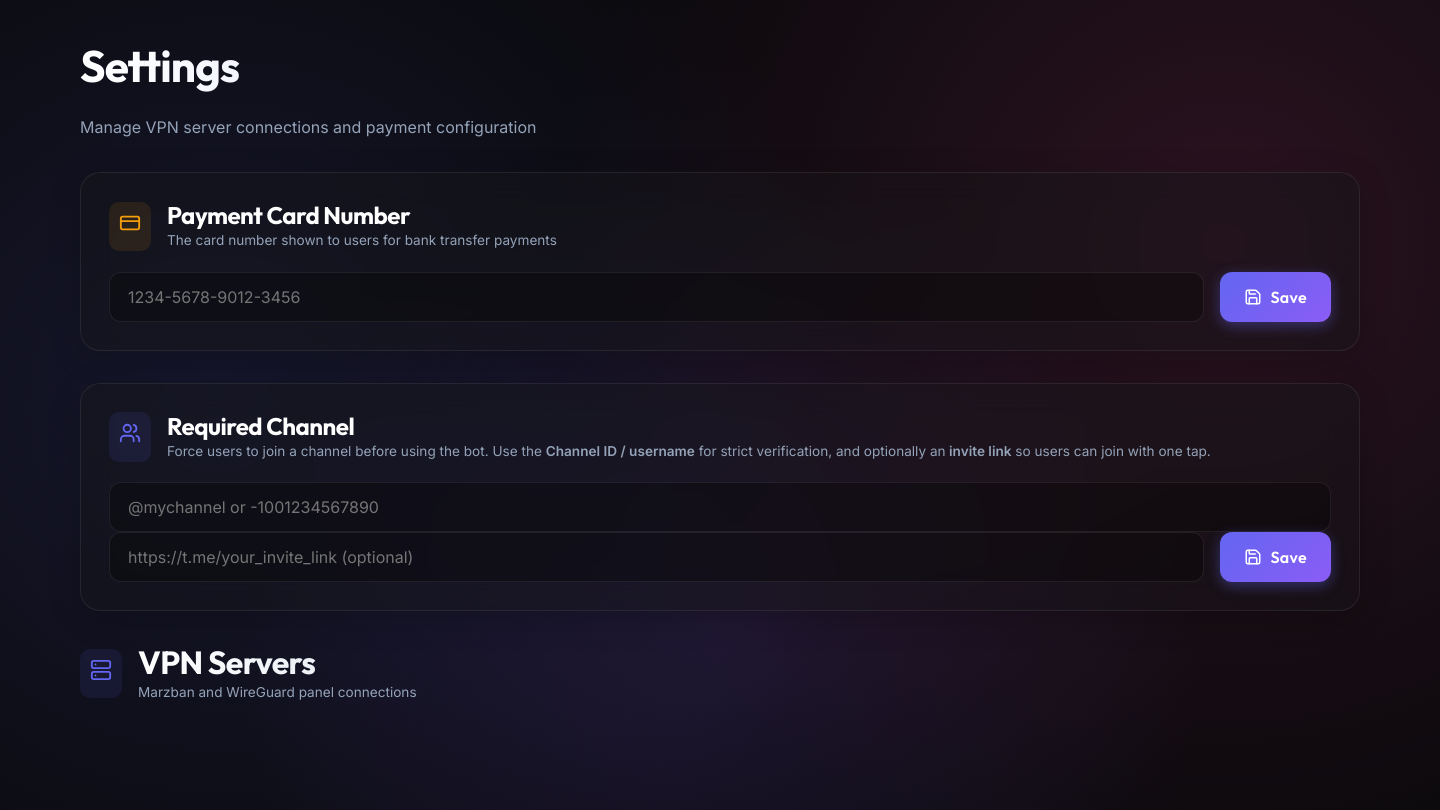
it: Settings › saves required channel when updated
The width and height of the screenshot is (1440, 810).
Type "@newchannel" into the field with placeholder "@mychannel or -1001234567890".
click(720, 508); type("@newchannel")  # box [109,482,1331,532]
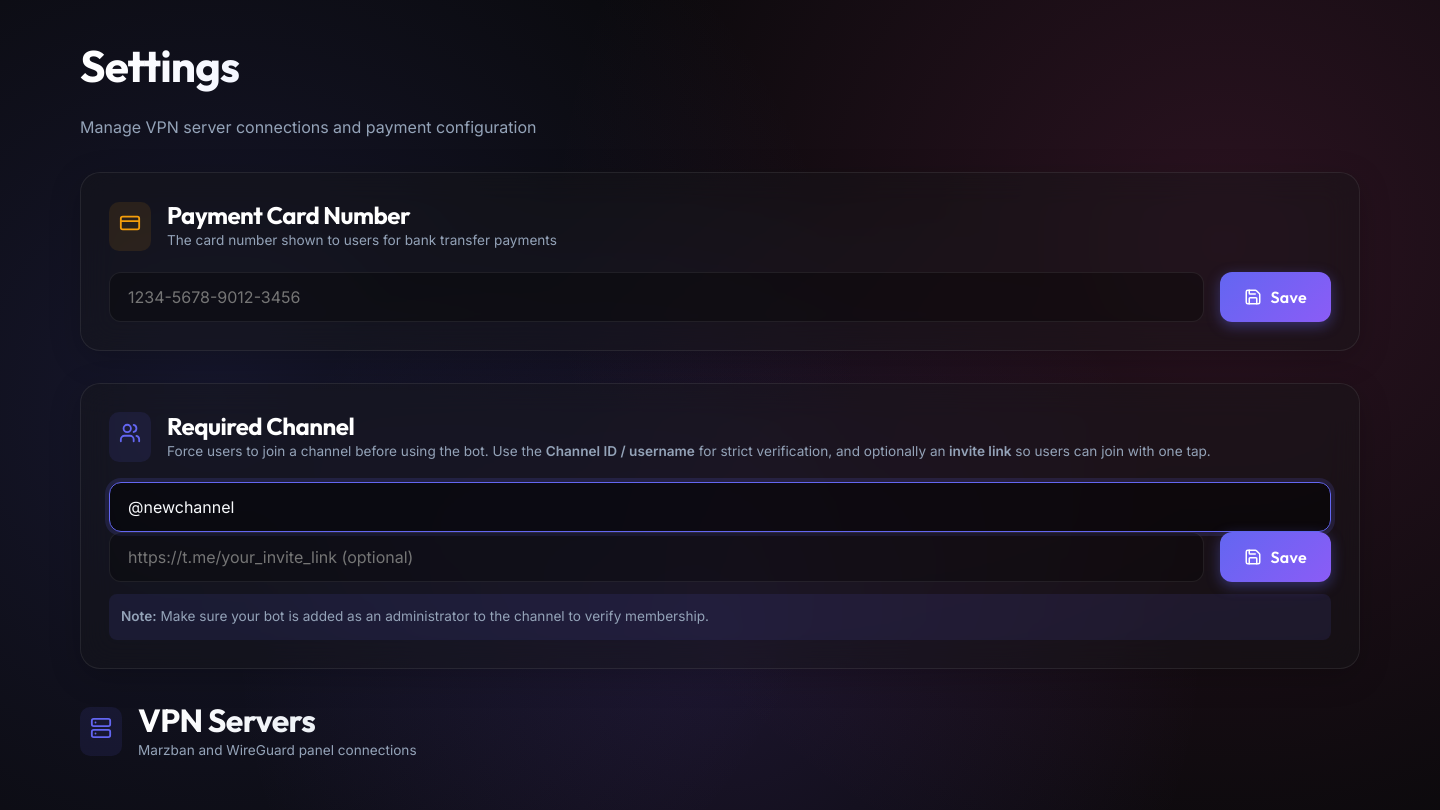
Click the button "Save" below "invite link".
click(1276, 558)  # box [1220,532,1331,582]
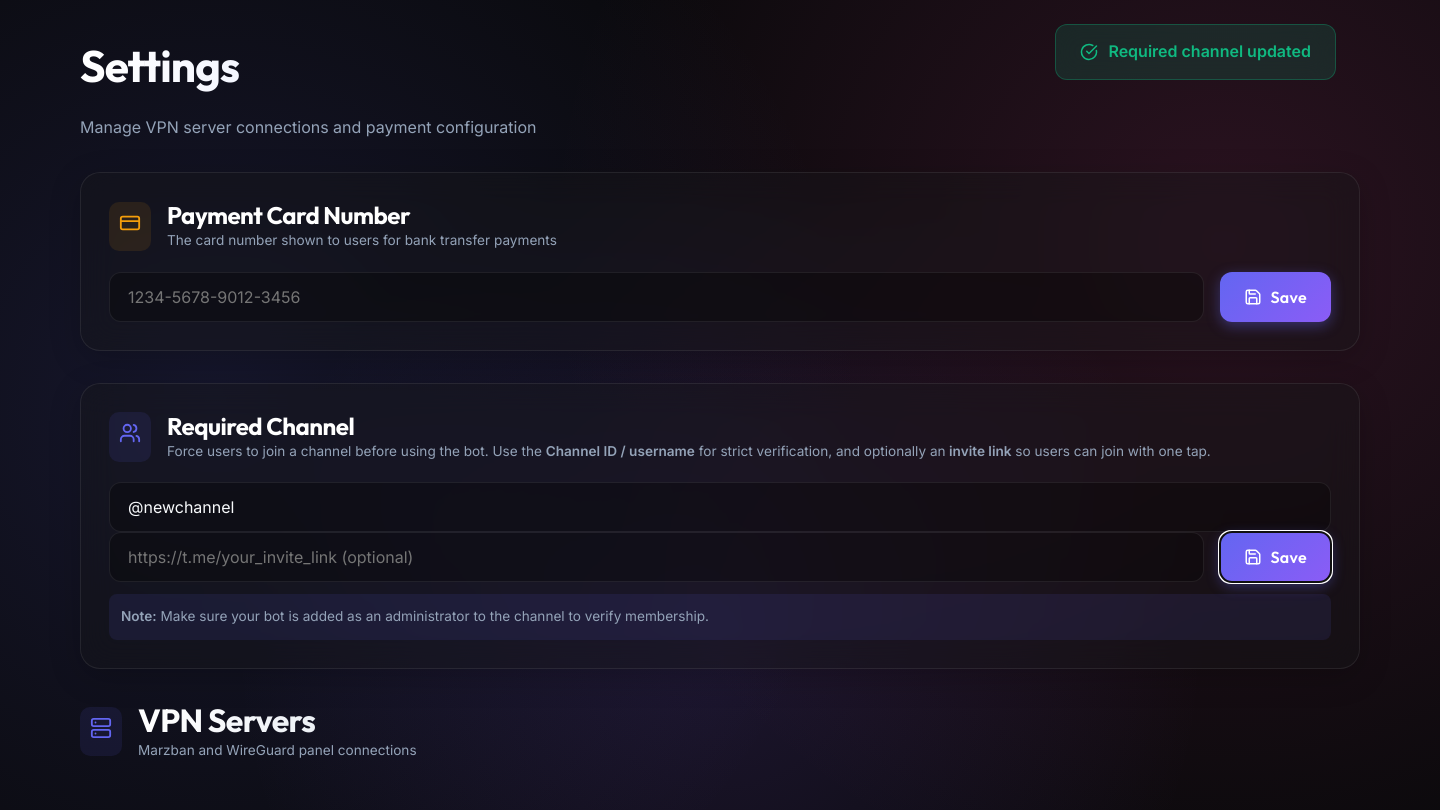
Result: the text "Required channel updated" is shown at [1055,24,1336,80]
